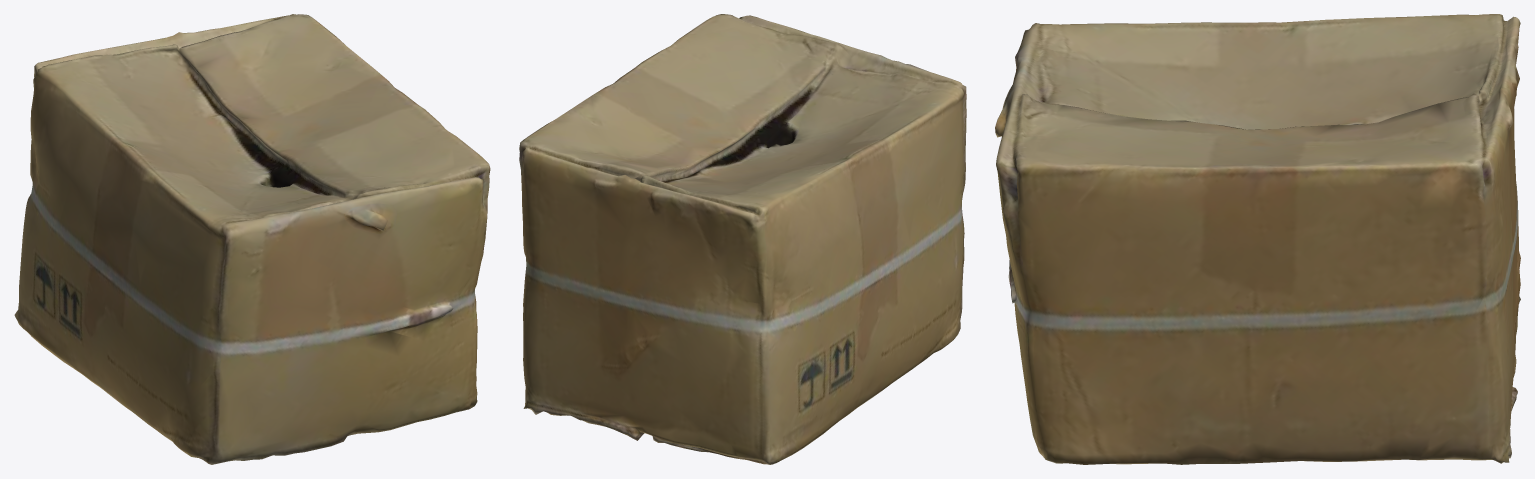
The model's file is cardboardBox.glb.
3 views of the same model, side by side, from view 1: azimuth 30°, elevation 25°; view 2: azimuth 150°, elevation 25°; view 3: azimuth 270°, elevation 25° (orthographic). The views are drawn at different scales.
Visible parts, largest first — view 1: cardboard_box_01; view 2: cardboard_box_01; view 3: cardboard_box_01.
Boxes of the visible parts, x1,y1,x2,y2 form: cardboard_box_01: [14, 14, 490, 464]; cardboard_box_01: [519, 14, 966, 464]; cardboard_box_01: [995, 14, 1520, 464].
Size of the model in its own units: 0.3868 by 0.3418 by 0.5159.
Materials: 1 (1 with a texture image).
